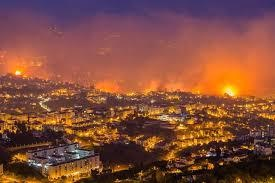fire: (219, 81, 241, 97)
